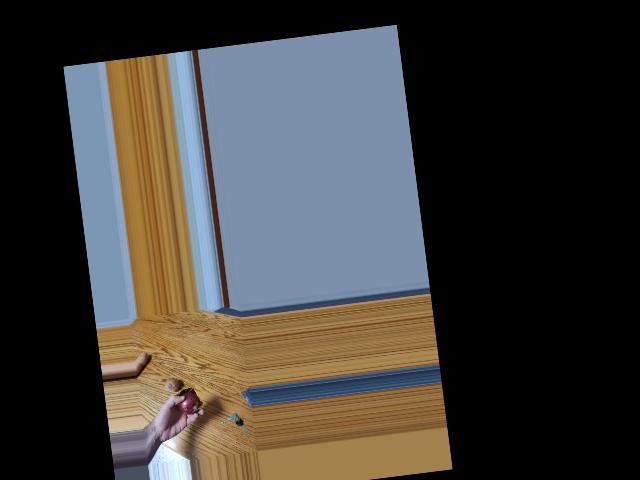onion: (163, 375, 181, 399)
